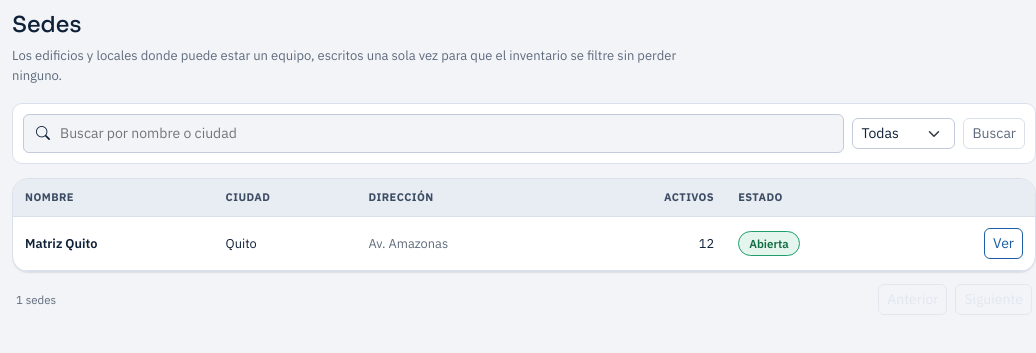
Sedes › vacío por los filtros lo distingue y los limpia, búsqueda incluida
Check: the text "Matriz Quito" is shown, box [13,216,214,270]
Step 1. Type "zzz" into the search field named "Buscar sedes" → (445, 134), box [58,122,831,145]
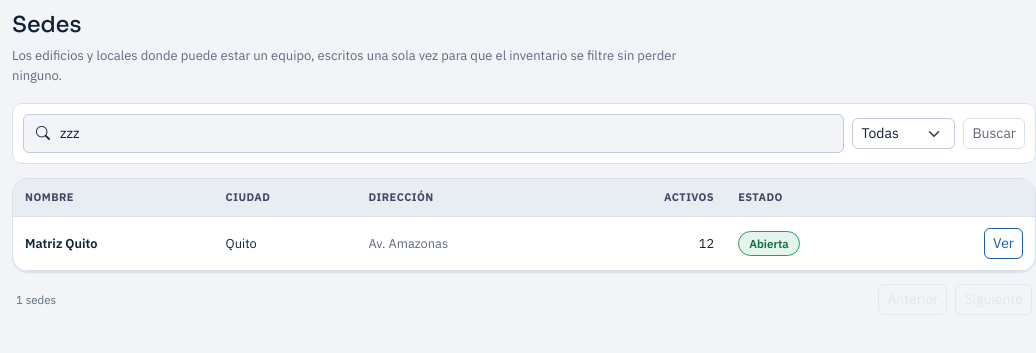
Step 2. Submit the form named "Buscar sedes", box [12,103,1035,164]
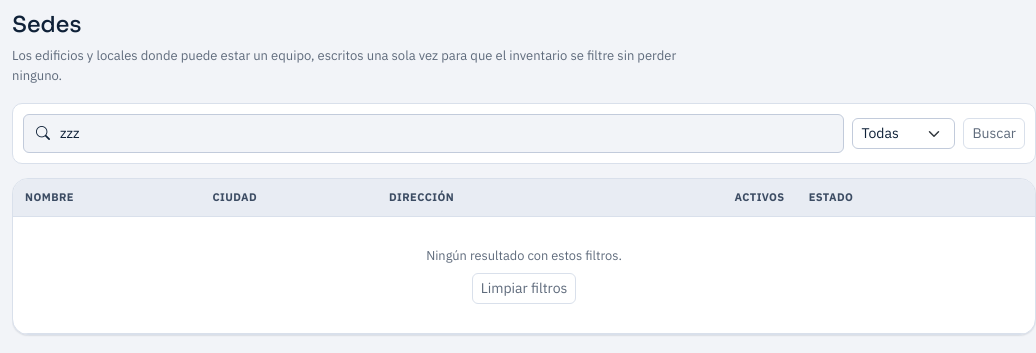
Check: the text "Ningún resultado con estos filtros." is shown, box [426,247,622,264]
Step 3. Click the button "Limpiar filtros" → (524, 289), box [472,273,576,304]
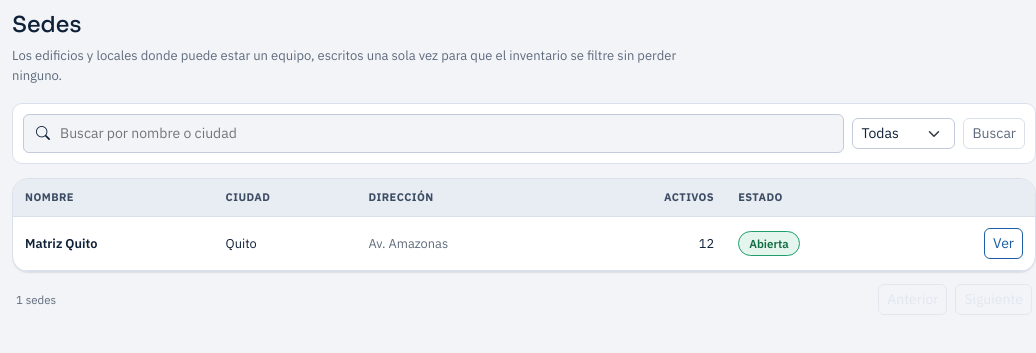
Check: the text "Matriz Quito" is shown, box [13,216,214,270]
Check: the search field named "Buscar sedes" is empty, box [58,122,831,145]
